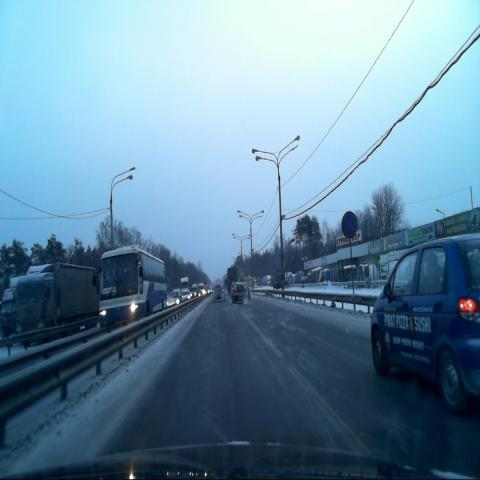3_27: (342, 210, 358, 239)
